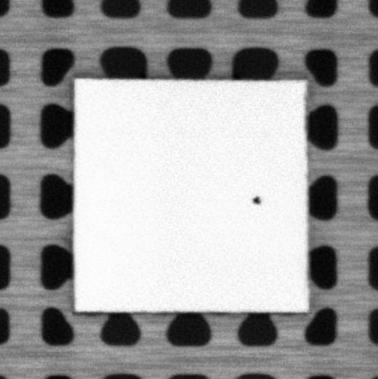DIE_INK: (251, 194, 264, 207)
